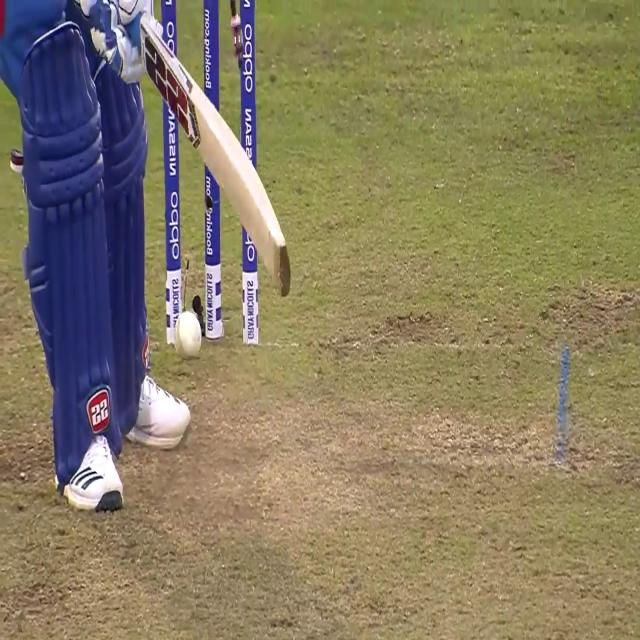ball: (174, 311, 202, 357)
